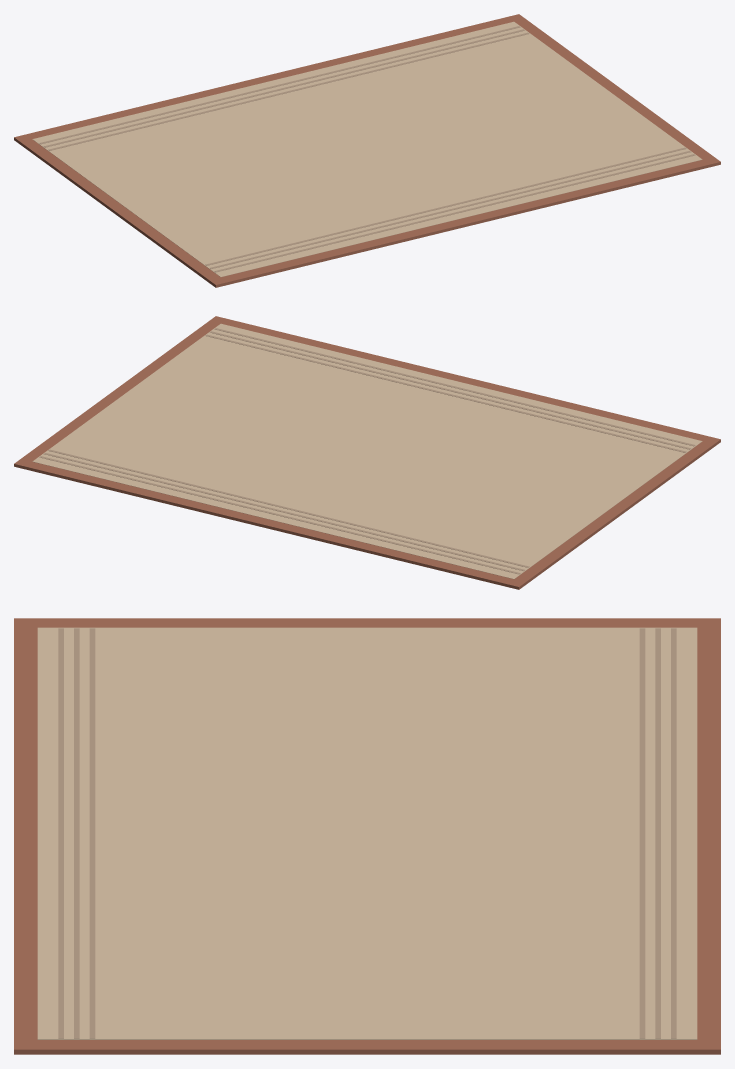
File: rug.glb
The picture shows the model from 3 angles, top to bottom: view 1: azimuth 30°, elevation 25°; view 2: azimuth 150°, elevation 25°; view 3: azimuth 270°, elevation 25°; orthographic projection. The views are drawn at different scales.
Bounding box in the file's own units: 2.6 × 0.016 × 1.8.
